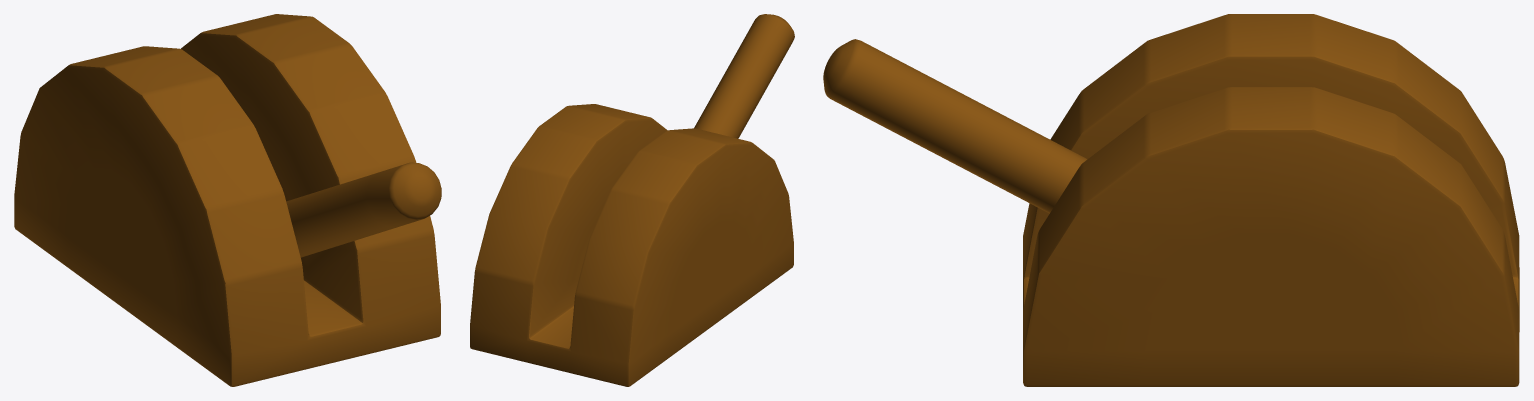
File: lever.fbx
3 views of the same model, side by side, from view 1: azimuth 30°, elevation 25°; view 2: azimuth 150°, elevation 25°; view 3: azimuth 270°, elevation 25° (orthographic). The views are drawn at different scales.
Parts seen in each view (by area): view 1: Cylinder030, Cylinder031; view 2: Cylinder030, Cylinder031; view 3: Cylinder030, Cylinder031.
Part boxes in pixels (x1=…): Cylinder030: x1=14, y1=14, x2=440, y2=386; Cylinder031: x1=286, y1=162, x2=441, y2=257; Cylinder030: x1=470, y1=104, x2=793, y2=386; Cylinder031: x1=694, y1=14, x2=794, y2=138; Cylinder030: x1=1023, y1=14, x2=1519, y2=386; Cylinder031: x1=823, y1=39, x2=1087, y2=213.
Bounding box in the file's own units: 66.84 × 76.68 × 168.
